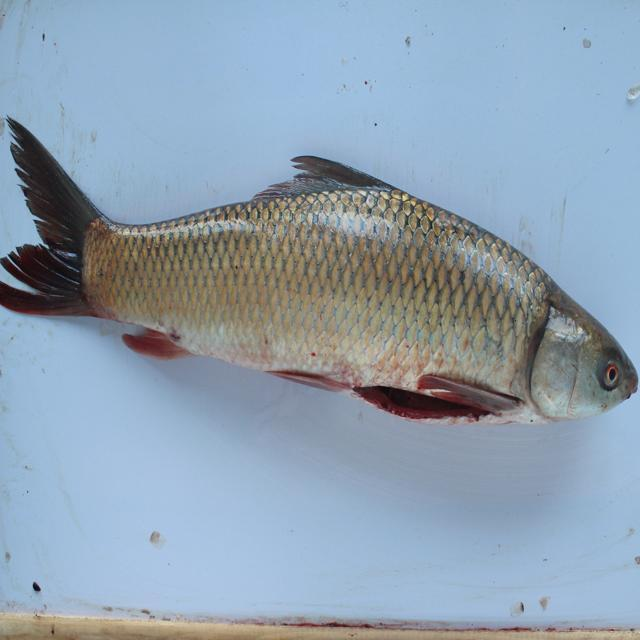Mori: (1, 113, 640, 439)
